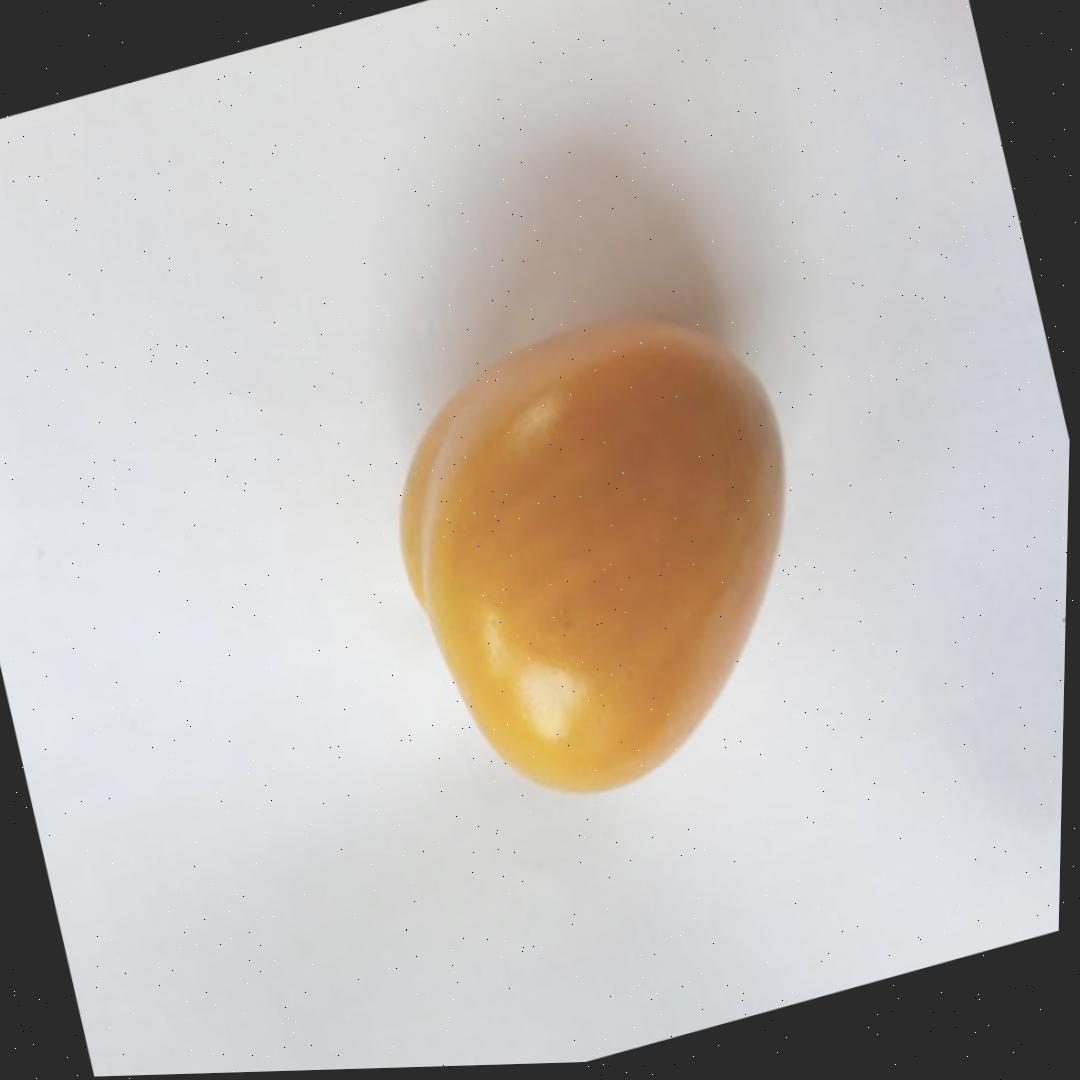setengah_matang: (344, 265, 864, 841)
